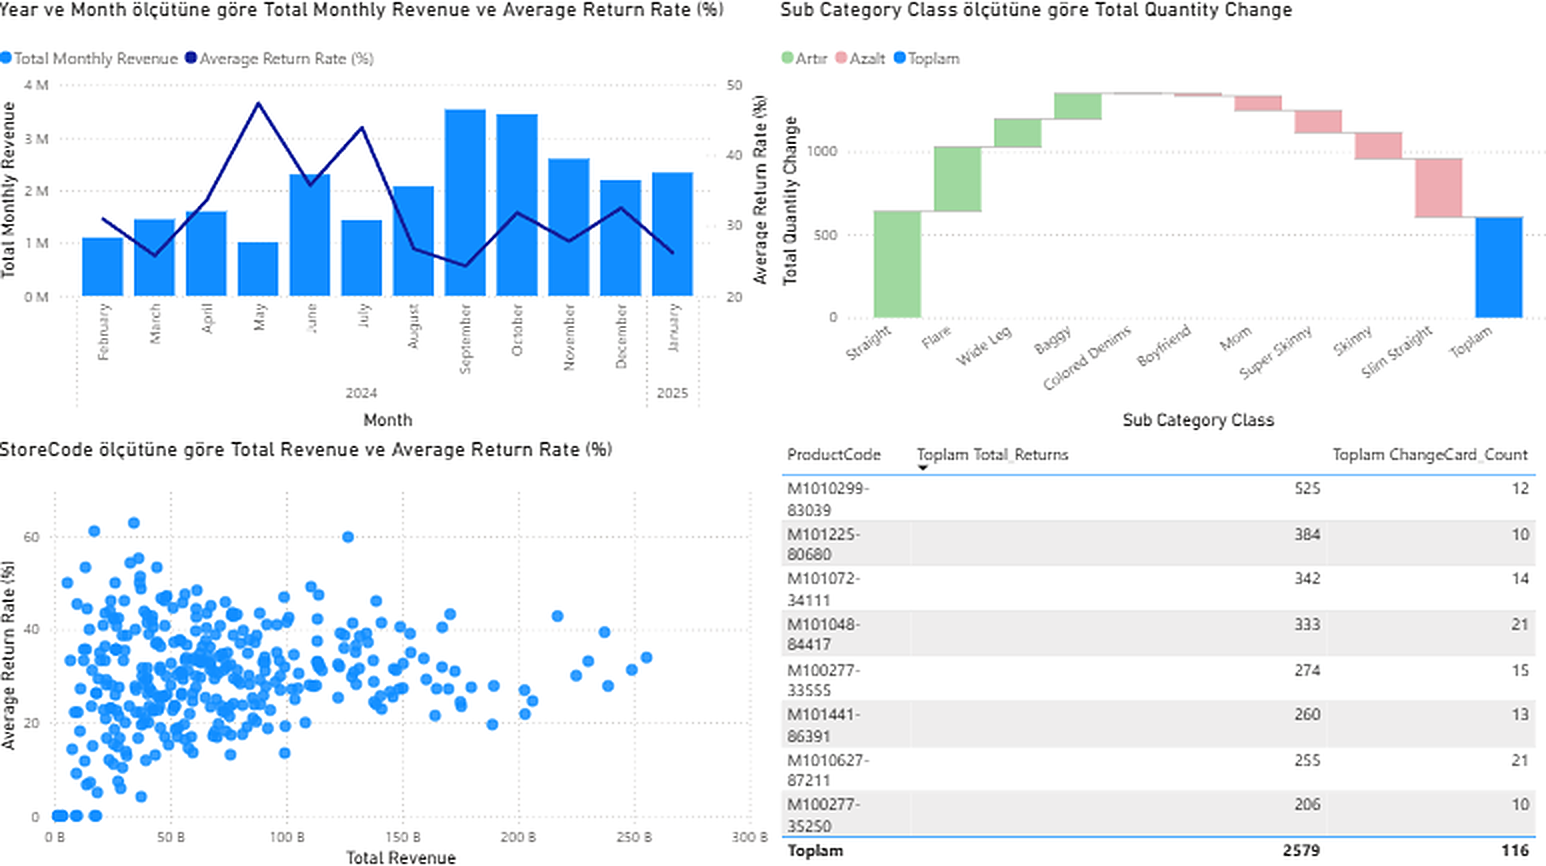

The page's visual inventory and layout, read from the dashboard file:
{"tool":"powerbi","page":{"name":"1. sayfa","canvas":[1280,720],"ordinal":0},"visuals":[{"type":"waterfallChart","fields":{"Category":["Category_Growth.SubCategoryClass"],"Y":["Sum(Category_Growth.Quantity_Change)"]},"box":[640.9,0,639.1,360.9],"z":1000},{"type":"scatterChart","fields":{"Category":["Store_Summary.StoreCode"],"X":["Store_Summary.Total_Revenue"],"Y":["Avg(Store_Summary.Return_Rate_%)"]},"box":[0,360.9,640.9,359],"z":2000},{"type":"tableEx","fields":{"Values":["Problematic_Products.ProductCode","Sum(Problematic_Products.Total_Returns)","Sum(Problematic_Products.ChangeCard_Count)"]},"box":[640.9,360.5,639.1,358.7],"z":3000},{"type":"lineStackedColumnComboChart","fields":{"Category":["Monthly_Trend.Date.Varyasyon.Date Hierarchy.Year","Monthly_Trend.Date.Varyasyon.Date Hierarchy.Month"],"Y":["Sum(Monthly_Trend.Monthly_Revenue)"],"Y2":["Avg(Monthly_Trend.Return_Rate_%)"]},"box":[0,0,641,361],"z":3001},{"type":"tableEx","fields":{"Values":["Monthly_Trend.Date.Varyasyon.Date Hierarchy.Year","Monthly_Trend.Date.Varyasyon.Date Hierarchy.Month"]},"box":[641.8,295.3,137.3,65.5],"z":3003},{"type":"slicer","fields":{"Values":["Category_Summary.SubCategoryClass"]},"box":[494.9,360.8,146.9,94.2],"z":3004}]}

Visuals, with their boxes in screenshot pixels (x1, y1, x2, y2), scaled from the page's 1280x720 canvas onto the 1546x866 screenshot:
waterfallChart - Category_Growth.SubCategoryClass x Sum(Category_Growth.Quantity_Change): region(774, 0, 1545, 434)
scatterChart - Store_Summary.StoreCode x Store_Summary.Total_Revenue: region(0, 434, 774, 865)
tableEx - Problematic_Products.ProductCode x Sum(Problematic_Products.Total_Returns): region(774, 434, 1545, 865)
lineStackedColumnComboChart - Monthly_Trend.Date.Varyasyon.Date Hierarchy.Year x Monthly_Trend.Date.Varyasyon.Date Hierarchy.Month: region(0, 0, 774, 434)
tableEx - Monthly_Trend.Date.Varyasyon.Date Hierarchy.Year x Monthly_Trend.Date.Varyasyon.Date Hierarchy.Month: region(775, 355, 941, 434)
slicer - Category_Summary.SubCategoryClass: region(598, 434, 775, 547)
